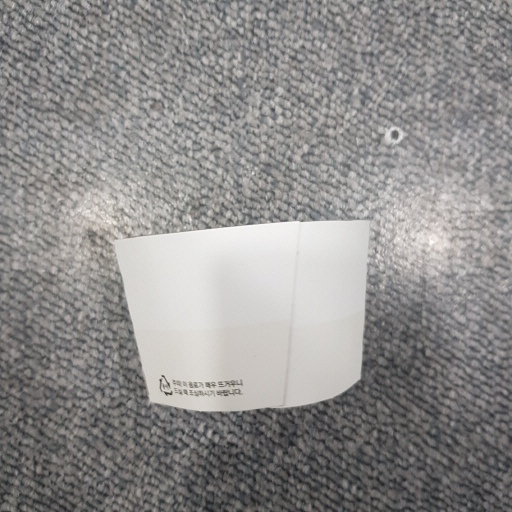Paper_0: (108, 210, 406, 424)
